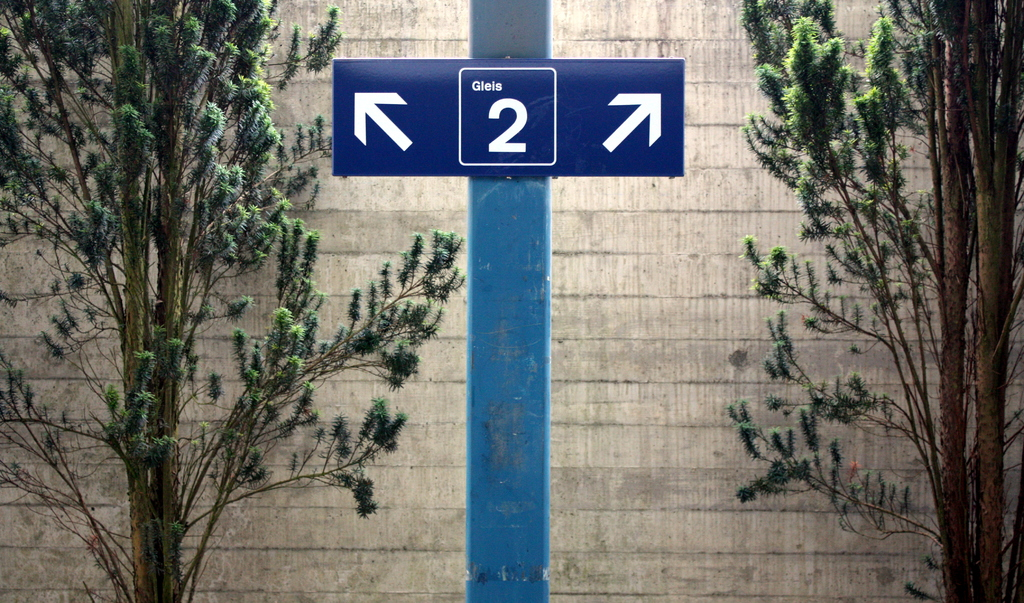keep_left: (349, 86, 414, 154)
keep_right: (600, 91, 667, 153)
